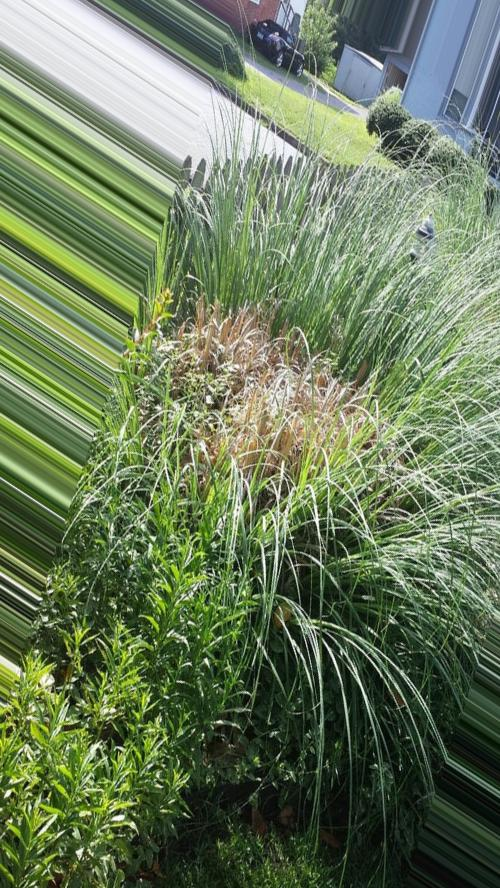patch: (191, 303, 336, 459)
